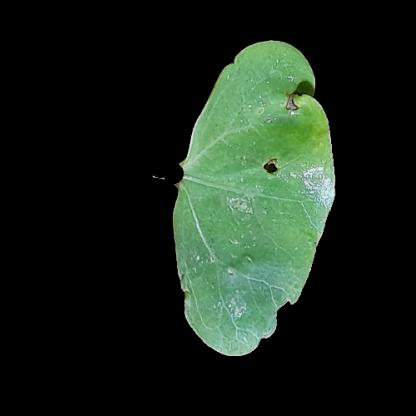healthy: (200, 132, 315, 251), (194, 265, 280, 333)
